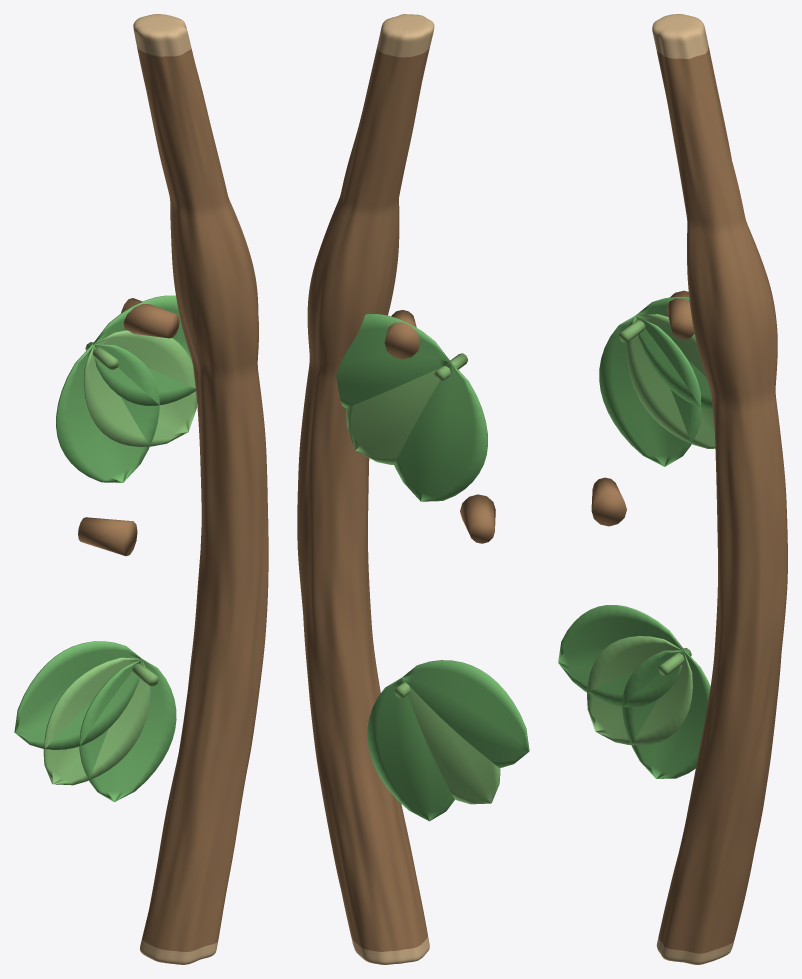
File: Ramita.glb
The picture shows the model from 3 angles, left to right: view 1: azimuth 30°, elevation 25°; view 2: azimuth 150°, elevation 25°; view 3: azimuth 330°, elevation 25°; orthographic projection.
Visible parts, largest first — view 1: Club, Club_Leaf_1.3_0, Club_Leaf_1.3_1, Club_Leaf_0.6_2, Club_Leaf_0.6_1, Club_Leaf_0.6_0, Club_Leaf_1.3_2, Club_Stub, Club_Stub.001; view 2: Club, Club_Leaf_1.3_0, Club_Leaf_0.6_2, Club_Leaf_0.6_0, Club_Leaf_1.3_2, Club_Leaf_1.3_1, Club_Leaf_0.6_1, Club_Stub, Club_Stub.001; view 3: Club, Club_Leaf_1.3_0, Club_Leaf_0.6_1, Club_Leaf_0.6_2, Club_Leaf_0.6_0, Club_Leaf_1.3_1, Club_Leaf_1.3_2, Club_Stub, Club_Stub.001.
Boxes of the visible parts, x1=… form: Club: x1=133, y1=14, x2=268, y2=964; Club_Leaf_1.3_0: x1=56, y1=344, x2=159, y2=482; Club_Leaf_1.3_1: x1=83, y1=330, x2=196, y2=446; Club_Leaf_0.6_2: x1=14, y1=641, x2=141, y2=749; Club_Leaf_0.6_1: x1=43, y1=657, x2=150, y2=785; Club_Leaf_0.6_0: x1=79, y1=659, x2=176, y2=801; Club_Leaf_1.3_2: x1=93, y1=295, x2=195, y2=405; Club_Stub: x1=78, y1=517, x2=137, y2=556; Club_Stub.001: x1=121, y1=298, x2=179, y2=338; Club: x1=297, y1=14, x2=434, y2=964; Club_Leaf_1.3_0: x1=394, y1=362, x2=487, y2=501; Club_Leaf_0.6_2: x1=402, y1=660, x2=529, y2=767; Club_Leaf_0.6_0: x1=367, y1=678, x2=454, y2=821; Club_Leaf_1.3_2: x1=315, y1=314, x2=450, y2=408; Club_Leaf_1.3_1: x1=346, y1=363, x2=450, y2=464; Club_Leaf_0.6_1: x1=402, y1=678, x2=500, y2=804; Club_Stub: x1=460, y1=494, x2=495, y2=543; Club_Stub.001: x1=384, y1=310, x2=420, y2=359; Club: x1=652, y1=14, x2=787, y2=964; Club_Leaf_1.3_0: x1=599, y1=315, x2=701, y2=466; Club_Leaf_0.6_1: x1=587, y1=636, x2=692, y2=745; Club_Leaf_0.6_2: x1=558, y1=605, x2=684, y2=707; Club_Leaf_0.6_0: x1=622, y1=650, x2=710, y2=778; Club_Leaf_1.3_1: x1=626, y1=314, x2=715, y2=448; Club_Leaf_1.3_2: x1=635, y1=296, x2=712, y2=410; Club_Stub: x1=591, y1=477, x2=626, y2=526; Club_Stub.001: x1=666, y1=290, x2=694, y2=339.
Bounding box in the file's own units: 0.5363 × 2 × 0.1862.
